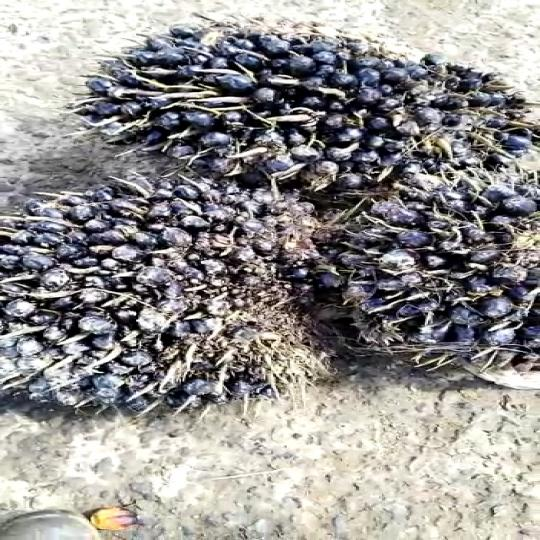mentah: (0, 178, 365, 422), (87, 14, 540, 192), (338, 168, 535, 390)
